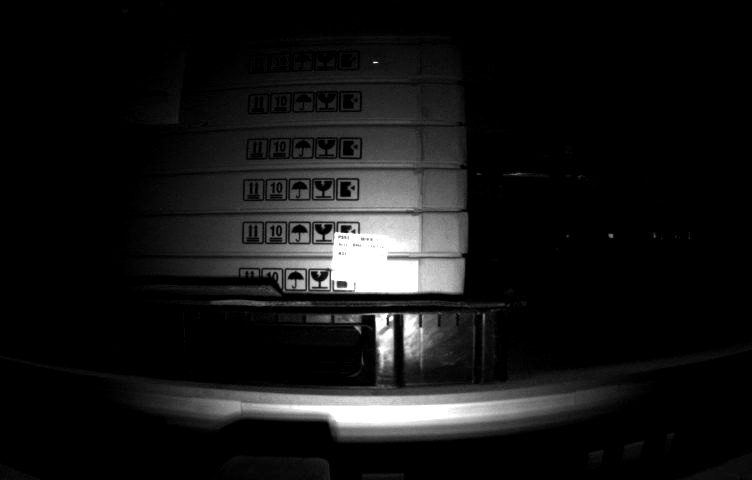True Barcode: (333, 232, 391, 286)
